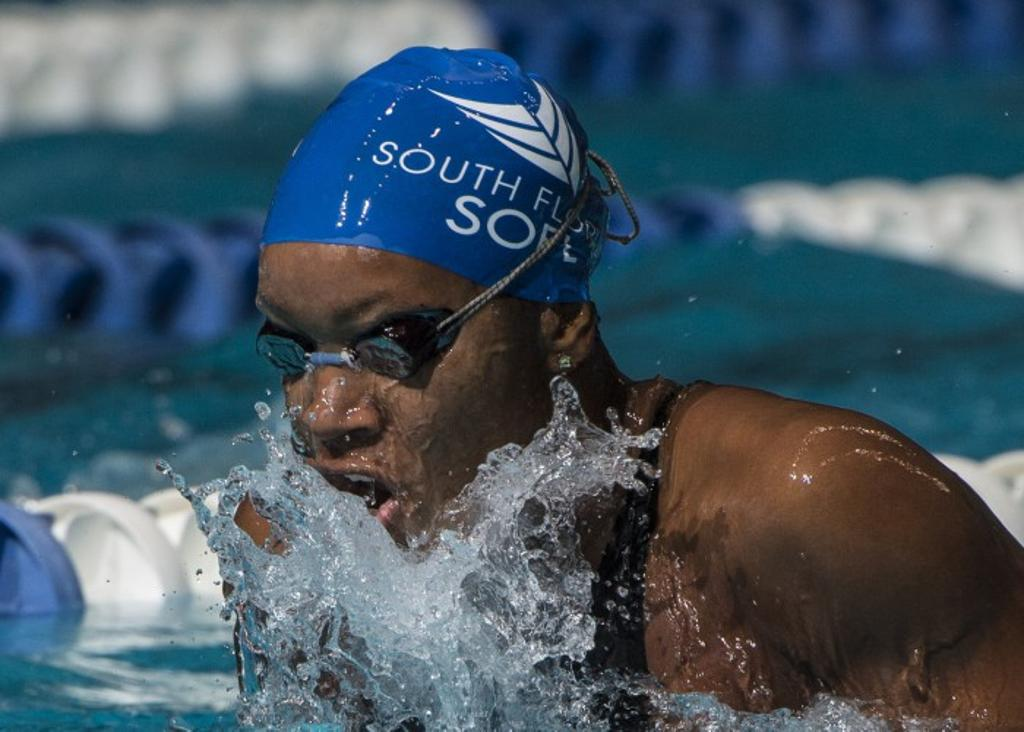face: (258, 250, 500, 548)
